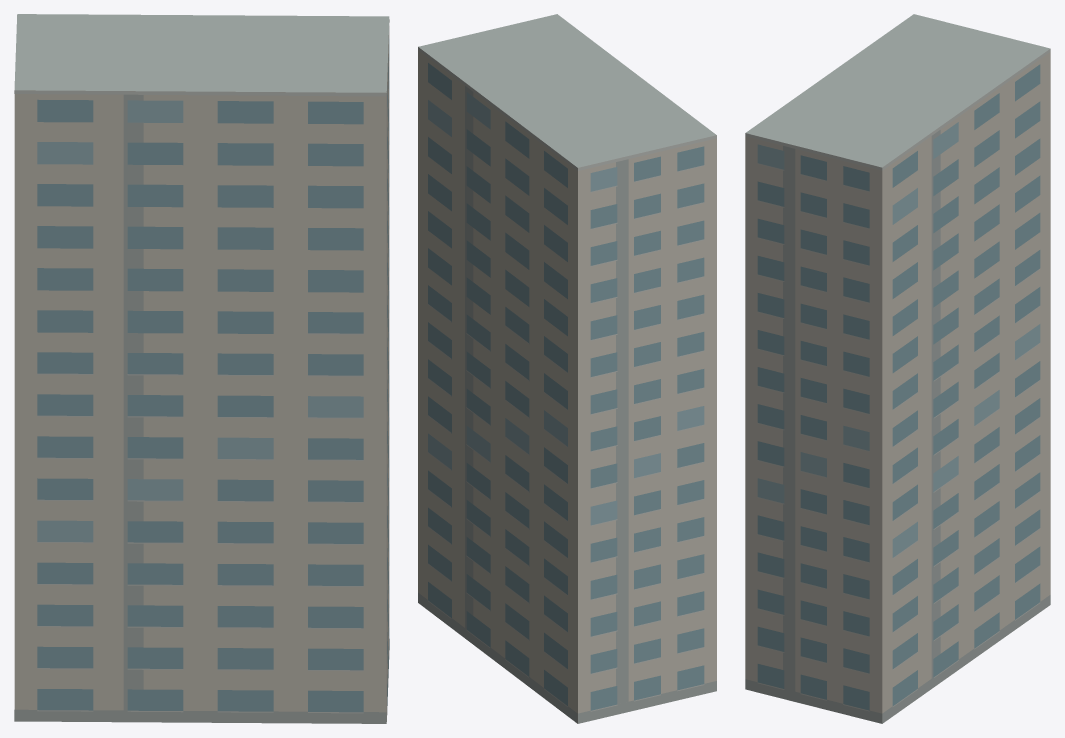
The model's file is residential-3e073ad6-62f7-45c4-a61e-09e4eb5fb659.glb.
The picture shows the model from 3 angles, left to right: view 1: azimuth 30°, elevation 25°; view 2: azimuth 150°, elevation 25°; view 3: azimuth 270°, elevation 25°; orthographic projection. The views are drawn at different scales.
Parts seen in each view (by area): view 1: residential-3e073ad6-62f7-45c4-a61e-09e4eb5fb659.tmp; view 2: residential-3e073ad6-62f7-45c4-a61e-09e4eb5fb659.tmp; view 3: residential-3e073ad6-62f7-45c4-a61e-09e4eb5fb659.tmp.
Boxes of the visible parts, x1,y1,x2,y2 form: residential-3e073ad6-62f7-45c4-a61e-09e4eb5fb659.tmp: (14,14,389,723); residential-3e073ad6-62f7-45c4-a61e-09e4eb5fb659.tmp: (418,14,716,723); residential-3e073ad6-62f7-45c4-a61e-09e4eb5fb659.tmp: (745,14,1050,723).
Size of the model in its own units: 24.87 by 42 by 20.89.
